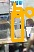bottle: (12, 12, 22, 40)
